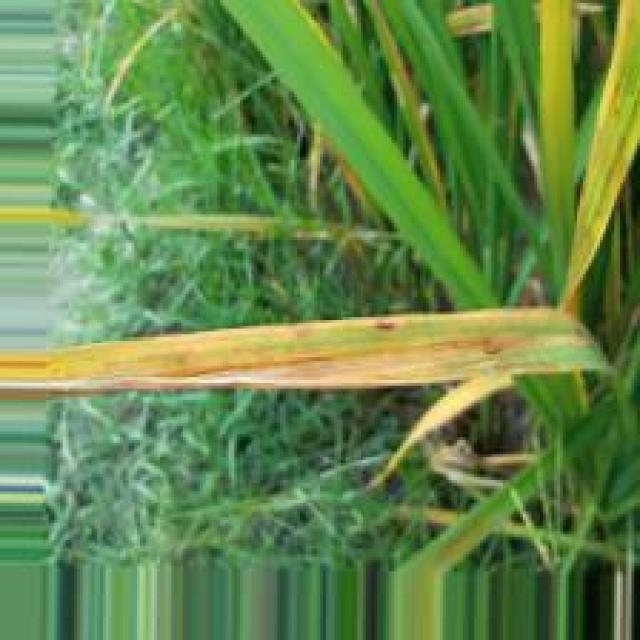Bacterial_Leaf_Blight: (0, 311, 534, 389)
